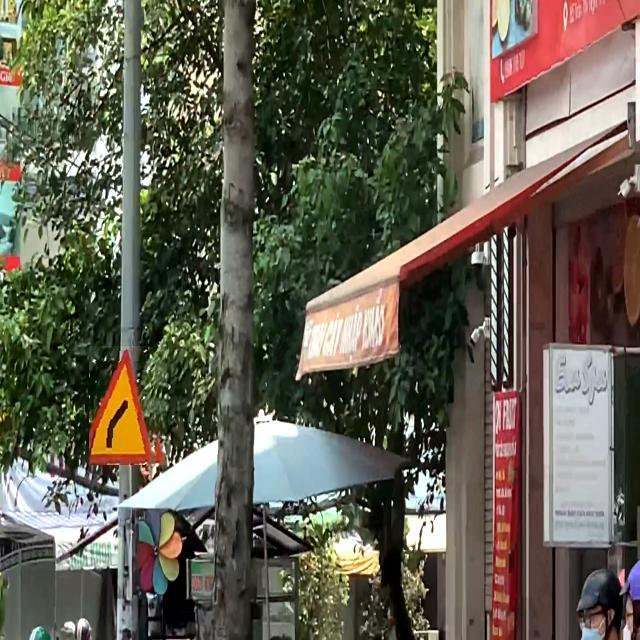W-201b: (89, 346, 167, 465)
